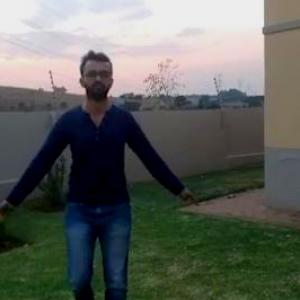land: (1, 49, 192, 298)
